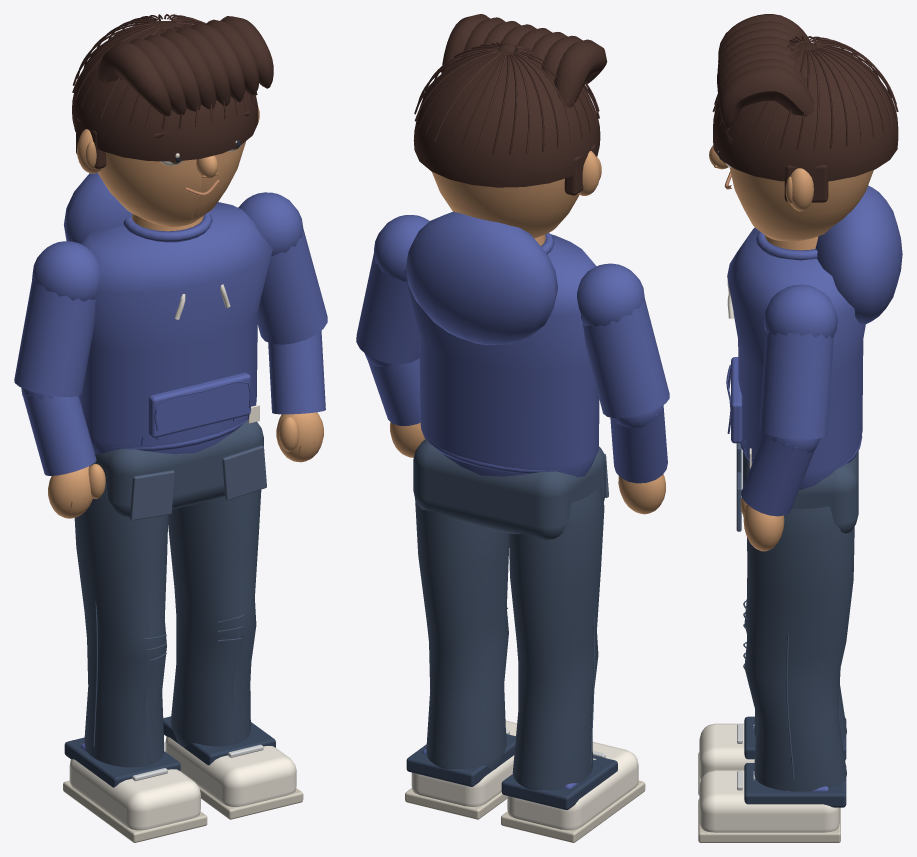
File: compa-leo.glb
3 views of the same model, side by side, from view 1: azimuth 30°, elevation 25°; view 2: azimuth 150°, elevation 25°; view 3: azimuth 270°, elevation 25° (orthographic).
Visible parts, largest first — view 1: body, head; view 2: body, head; view 3: body, head.
Boxes of the visible parts, x1,y1,x2,y2 form: body: [14, 172, 327, 842]; head: [72, 14, 273, 226]; body: [356, 211, 669, 842]; head: [413, 14, 607, 238]; body: [698, 185, 902, 842]; head: [709, 14, 898, 241].
Size of the model in its own units: 0.8592 by 2.06 by 0.501.
